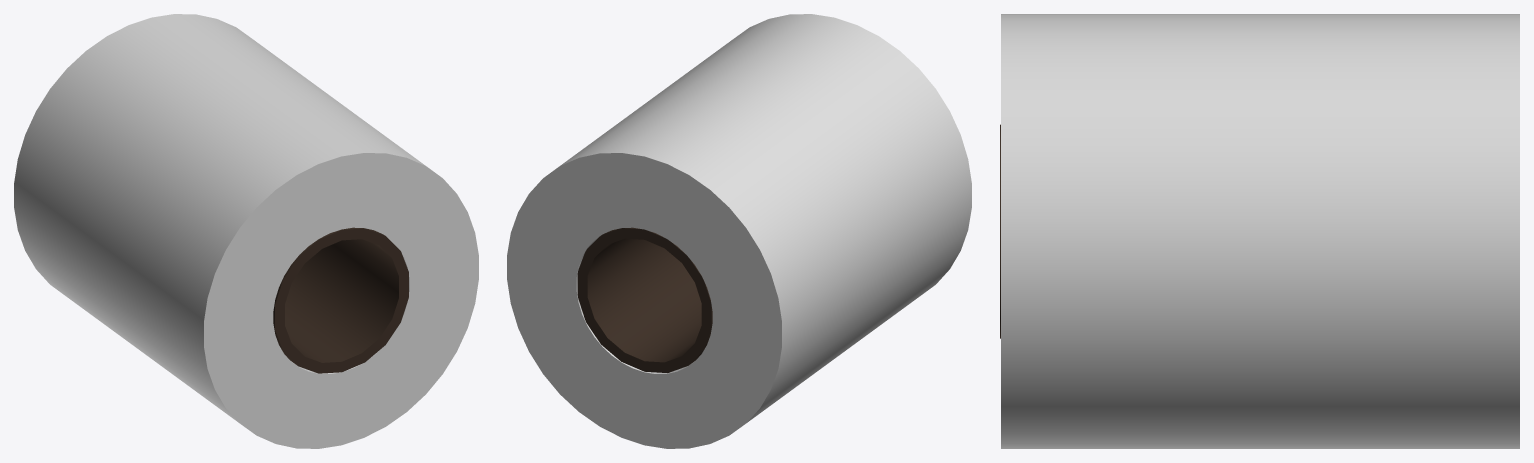
File: RolloPapel.fbx
3 renders of one model, left to right at view 1: azimuth 30°, elevation 25°; view 2: azimuth 150°, elevation 25°; view 3: azimuth 270°, elevation 25°, orthographic. The views are drawn at different scales.
Parts seen in each view (by area): view 1: Tube001, Tube002; view 2: Tube001, Tube002; view 3: Tube001.
Part boxes in pixels (left/top/right/bottom): Tube001: left=14, top=14, right=478, bottom=448; Tube002: left=273, top=227, right=408, bottom=373; Tube001: left=507, top=14, right=971, bottom=448; Tube002: left=577, top=227, right=712, bottom=372; Tube001: left=1001, top=14, right=1519, bottom=448.
Size of the model in its own units: 2.93 by 2.94 by 3.51.
